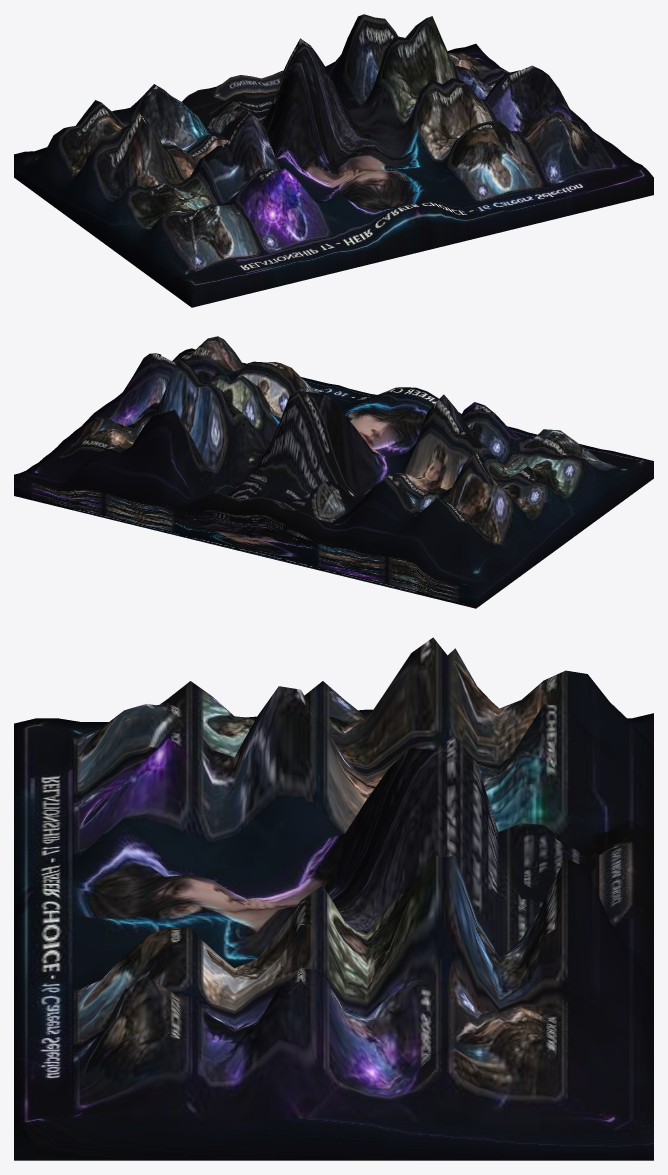
File: RELATIONSHIP_17_Heir_Career_Choice.glb
3 views of the same model, one above another, from view 1: azimuth 30°, elevation 25°; view 2: azimuth 150°, elevation 25°; view 3: azimuth 270°, elevation 25° (orthographic). The views are drawn at different scales.
Parts seen in each view (by area): view 1: RELATIONSHIP_17_Heir_Career_Choice; view 2: RELATIONSHIP_17_Heir_Career_Choice; view 3: RELATIONSHIP_17_Heir_Career_Choice.
Part boxes in pixels (left/top/right/bottom): RELATIONSHIP_17_Heir_Career_Choice: left=14, top=14, right=653, bottom=307; RELATIONSHIP_17_Heir_Career_Choice: left=14, top=336, right=653, bottom=608; RELATIONSHIP_17_Heir_Career_Choice: left=14, top=637, right=653, bottom=1160.
Size of the model in its own units: 2 by 0.51 by 1.33.
1 material, 1 textured.
